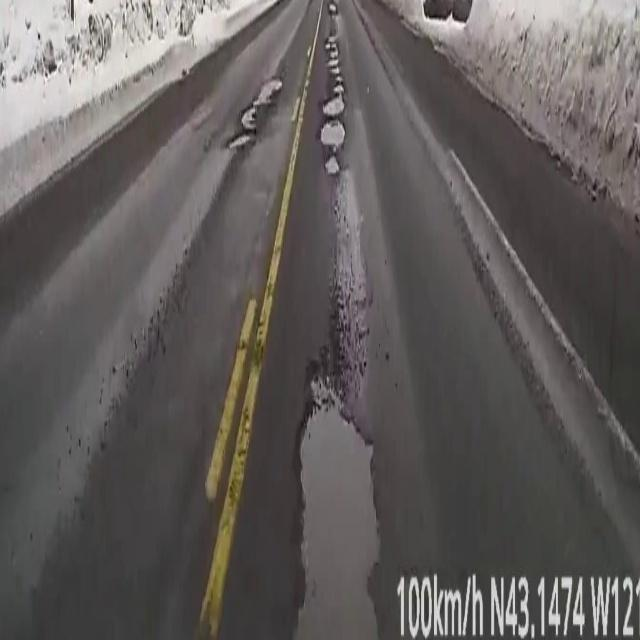pothole: (289, 367, 385, 640), (320, 0, 345, 174), (230, 70, 282, 146)
